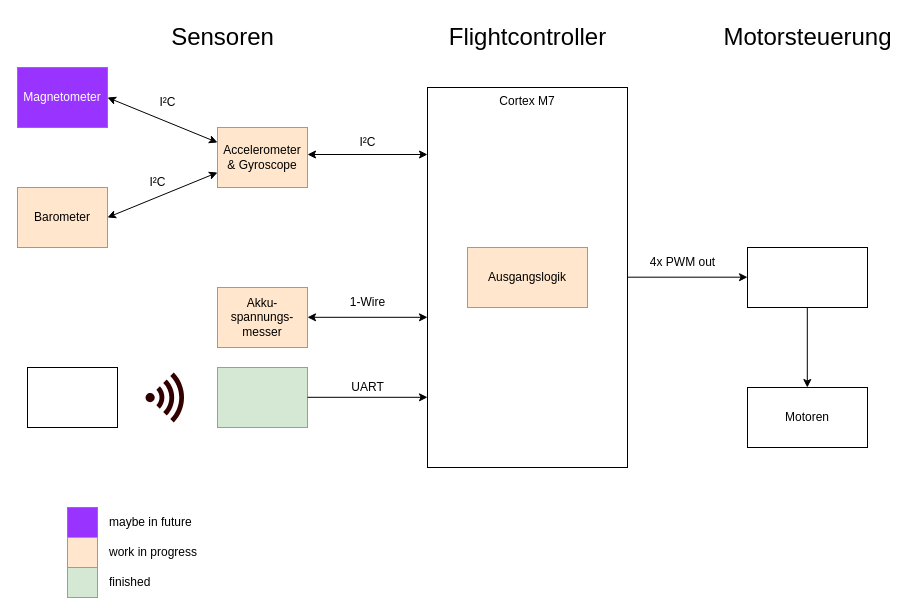
This 920x615 diagram has some shape labels left out. Each missing label, with the centre of its shape:
"ESC" belongs at [807,277].
"Fernsteuerung" belongs at [72,397].
"serieller Receiver" belongs at [262,397].
